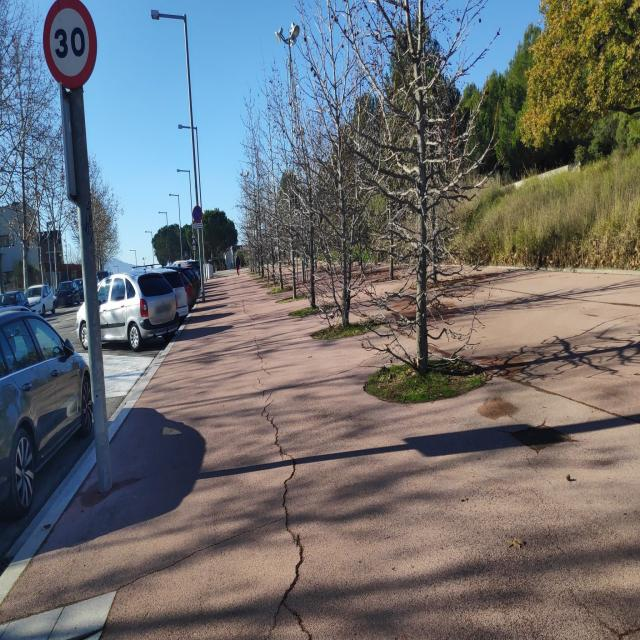forb_stopping: (193, 205, 203, 223)
